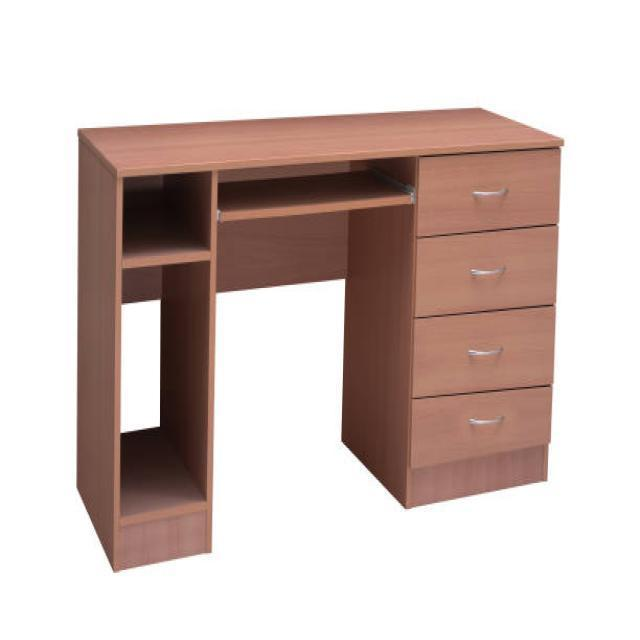table: (75, 105, 564, 572)
